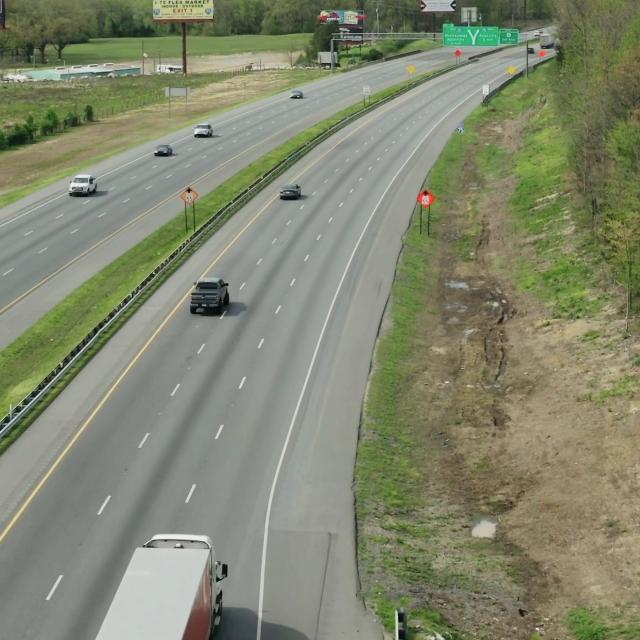Car: (191, 273, 230, 316), (68, 170, 99, 200), (277, 181, 305, 205)
